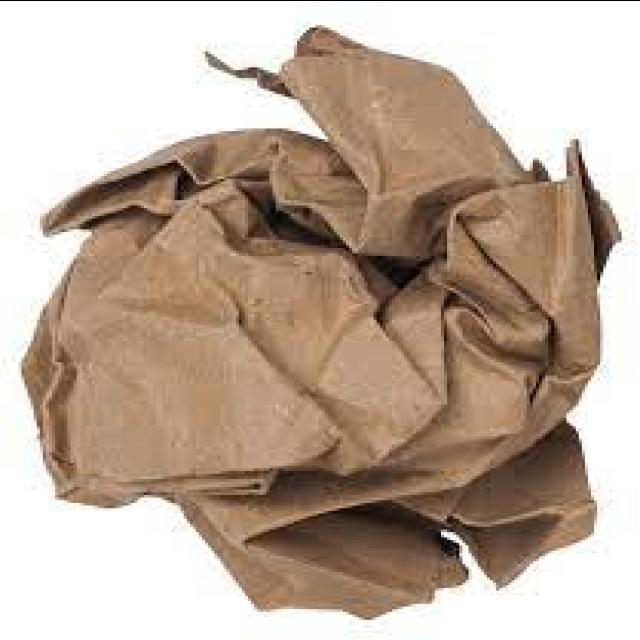crampled paper: (23, 28, 598, 618)
